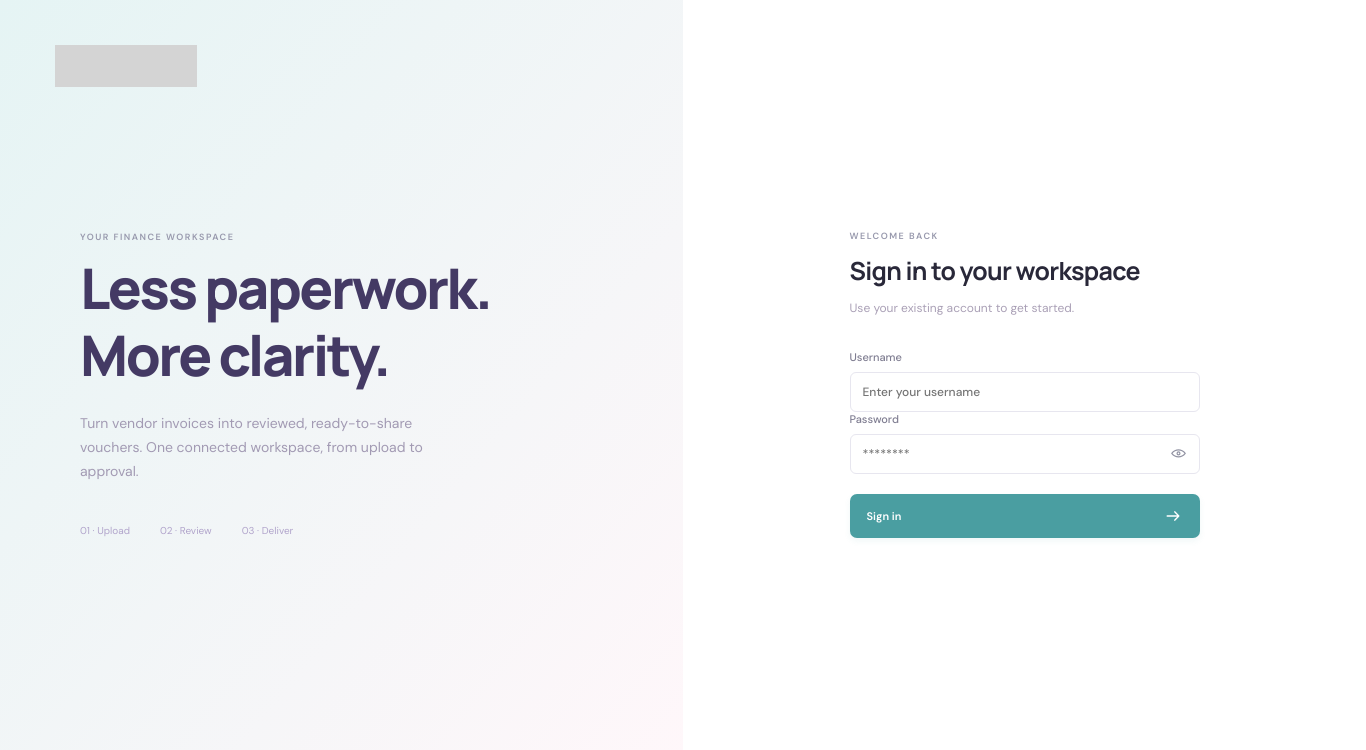
Test: Workspace › signs in and sends the bearer token to workspace APIs
Type "finance" into the field labelled "Username". click: (1024,392)
box: [850,372,1200,412]
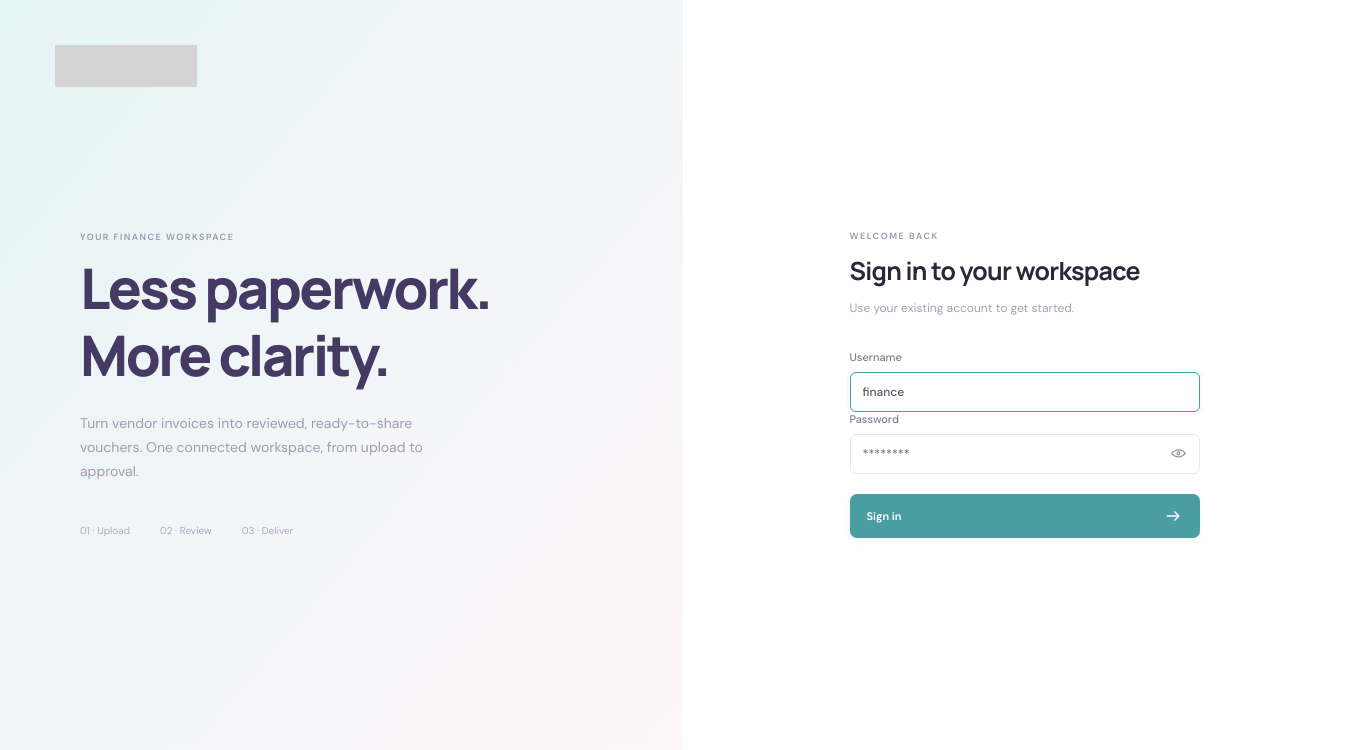
Type "Finance-Password-2026" into the password field labelled "Password". click: (1024,454)
box: [850,434,1200,474]
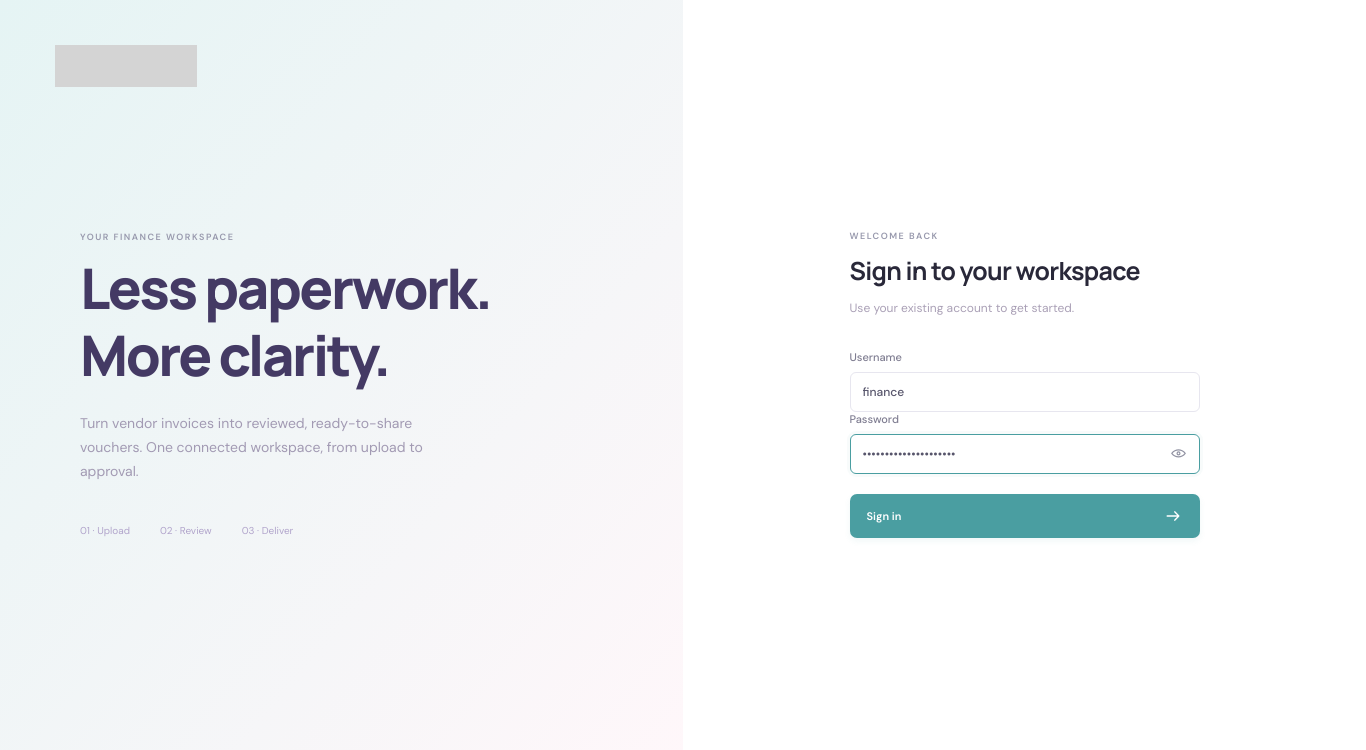
Click the button "Sign in". click: (884,516)
box: [850,494,1200,538]
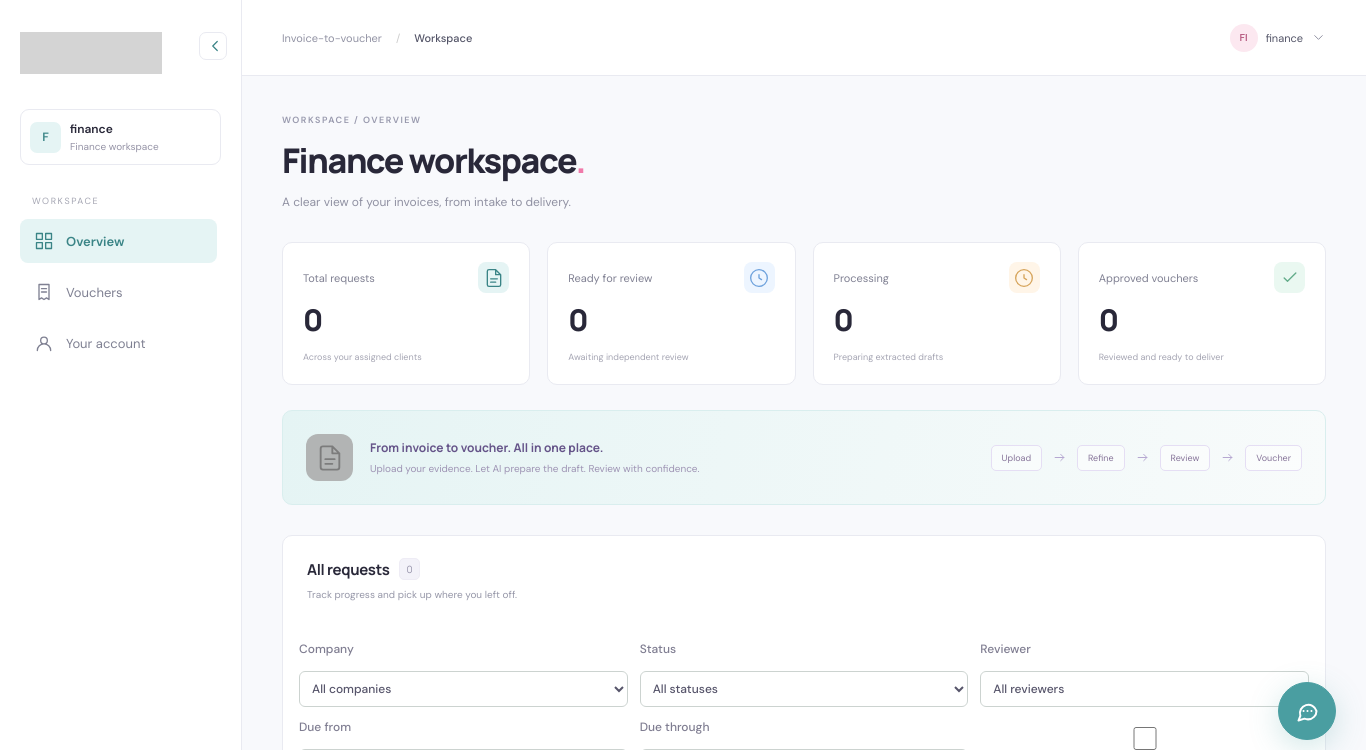
expect the heading "Finance workspace." is shown: met, box [282,137,585,183]
